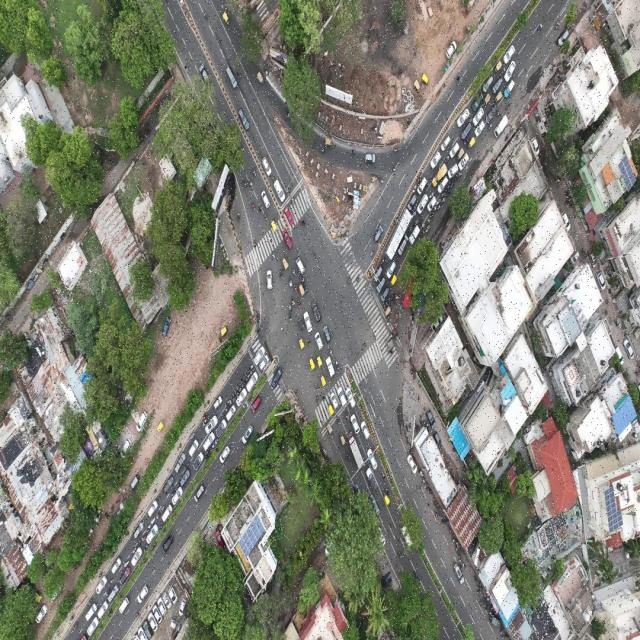3W: (155, 420, 164, 433), (492, 63, 501, 76), (298, 335, 305, 351), (222, 10, 230, 24), (256, 69, 264, 83), (325, 135, 333, 149), (219, 324, 228, 336), (482, 96, 491, 108), (412, 78, 419, 93), (316, 352, 323, 367), (282, 256, 289, 271), (308, 356, 314, 373), (320, 373, 327, 387), (339, 434, 346, 448), (298, 318, 305, 332), (421, 72, 429, 84), (389, 275, 397, 287), (327, 422, 333, 437), (384, 307, 391, 319), (456, 148, 463, 160), (383, 492, 390, 504), (270, 219, 276, 232), (495, 90, 502, 101), (299, 284, 305, 296), (386, 340, 394, 349), (468, 138, 474, 148)
Bus: (384, 210, 411, 261)
Cars: (273, 178, 286, 202), (452, 564, 466, 586), (135, 412, 148, 435), (493, 115, 506, 138), (261, 155, 274, 178), (106, 582, 119, 604), (121, 435, 134, 457), (172, 486, 185, 508), (227, 67, 238, 92), (138, 583, 150, 605), (311, 300, 322, 324), (282, 229, 293, 253), (428, 150, 441, 170), (162, 504, 175, 524), (192, 451, 204, 472), (484, 106, 496, 127), (481, 73, 494, 92), (205, 415, 218, 434), (203, 430, 215, 450), (95, 600, 107, 620), (96, 576, 108, 596), (147, 524, 159, 544), (245, 372, 257, 392), (446, 39, 458, 59), (264, 269, 276, 289), (456, 152, 468, 172), (455, 109, 468, 127), (238, 110, 251, 128), (408, 455, 419, 476), (85, 601, 96, 622), (164, 312, 174, 335), (367, 468, 377, 491), (314, 330, 324, 353), (400, 521, 410, 544), (257, 354, 269, 373), (385, 261, 397, 280), (241, 425, 253, 444), (130, 548, 141, 568), (119, 566, 130, 586), (216, 418, 227, 438), (368, 447, 378, 469), (162, 536, 173, 556), (272, 368, 282, 390), (180, 468, 191, 488), (346, 387, 357, 407), (219, 446, 231, 464), (436, 176, 448, 194), (416, 175, 427, 194), (193, 483, 204, 502), (250, 395, 261, 414), (119, 596, 130, 615), (471, 109, 484, 125), (323, 321, 332, 344), (129, 474, 139, 494), (284, 208, 294, 228), (148, 498, 158, 518), (175, 452, 185, 472), (406, 194, 417, 212), (361, 419, 370, 441), (473, 122, 484, 140), (365, 150, 378, 165), (253, 345, 263, 364), (326, 356, 335, 377), (471, 94, 482, 111), (504, 45, 515, 62), (86, 619, 96, 637), (459, 124, 471, 139), (492, 75, 502, 93), (351, 414, 360, 434), (375, 224, 384, 244), (505, 80, 515, 98), (224, 405, 235, 421), (447, 164, 458, 180), (262, 191, 271, 210), (164, 477, 174, 494), (190, 439, 200, 456), (330, 389, 338, 410), (338, 387, 346, 407), (440, 136, 450, 152), (304, 311, 312, 331), (134, 521, 144, 537), (111, 558, 121, 574), (506, 62, 516, 78), (449, 143, 458, 160), (375, 276, 384, 293), (379, 287, 388, 304), (237, 390, 247, 405), (426, 196, 436, 211), (372, 266, 381, 282), (213, 396, 223, 410)
LCV: (430, 163, 446, 187), (296, 258, 306, 276)
M2W: (202, 9, 210, 22), (313, 378, 319, 393), (250, 198, 256, 213), (278, 268, 284, 281), (250, 164, 256, 177), (398, 549, 404, 561), (414, 569, 420, 581), (290, 267, 296, 278), (237, 210, 242, 223), (431, 205, 437, 215), (443, 155, 449, 165), (388, 329, 394, 339), (287, 278, 293, 288), (345, 410, 350, 422), (243, 177, 248, 189), (256, 205, 262, 215), (351, 146, 357, 156), (321, 391, 326, 402), (427, 191, 433, 200), (424, 217, 430, 226), (434, 198, 440, 207), (385, 319, 391, 328), (335, 360, 341, 369), (287, 312, 293, 321), (248, 180, 254, 189), (538, 23, 544, 32), (305, 285, 309, 298), (381, 472, 386, 482), (296, 296, 301, 306), (385, 485, 390, 495), (409, 314, 414, 324), (555, 20, 560, 30), (457, 73, 462, 83), (419, 223, 425, 231), (151, 517, 157, 525), (382, 302, 388, 310), (301, 275, 305, 287), (230, 388, 235, 397), (206, 449, 211, 458), (394, 294, 399, 303), (307, 336, 311, 347), (249, 363, 254, 371), (440, 190, 445, 198), (316, 393, 320, 403), (408, 330, 412, 340), (396, 310, 400, 320), (329, 348, 333, 358), (269, 236, 273, 246), (290, 296, 294, 306), (294, 285, 298, 295), (190, 430, 194, 440), (140, 536, 146, 542), (445, 183, 449, 192), (452, 175, 458, 181), (170, 486, 174, 495), (394, 330, 398, 339), (124, 560, 130, 566), (272, 251, 276, 260), (337, 414, 340, 426), (220, 412, 224, 420), (419, 216, 423, 224), (419, 230, 423, 238), (288, 304, 292, 312), (502, 67, 506, 75), (389, 292, 394, 298), (414, 220, 418, 227), (216, 438, 220, 445), (445, 192, 448, 200), (242, 376, 245, 383), (230, 397, 233, 404), (264, 213, 267, 220), (440, 198, 444, 203), (386, 296, 389, 302), (390, 300, 393, 306), (394, 322, 397, 328)
MAV: (417, 194, 427, 214)
Truck: (348, 432, 365, 468)
